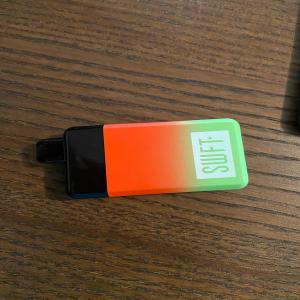Swift-E-Ciggirate: (31, 113, 250, 203)
